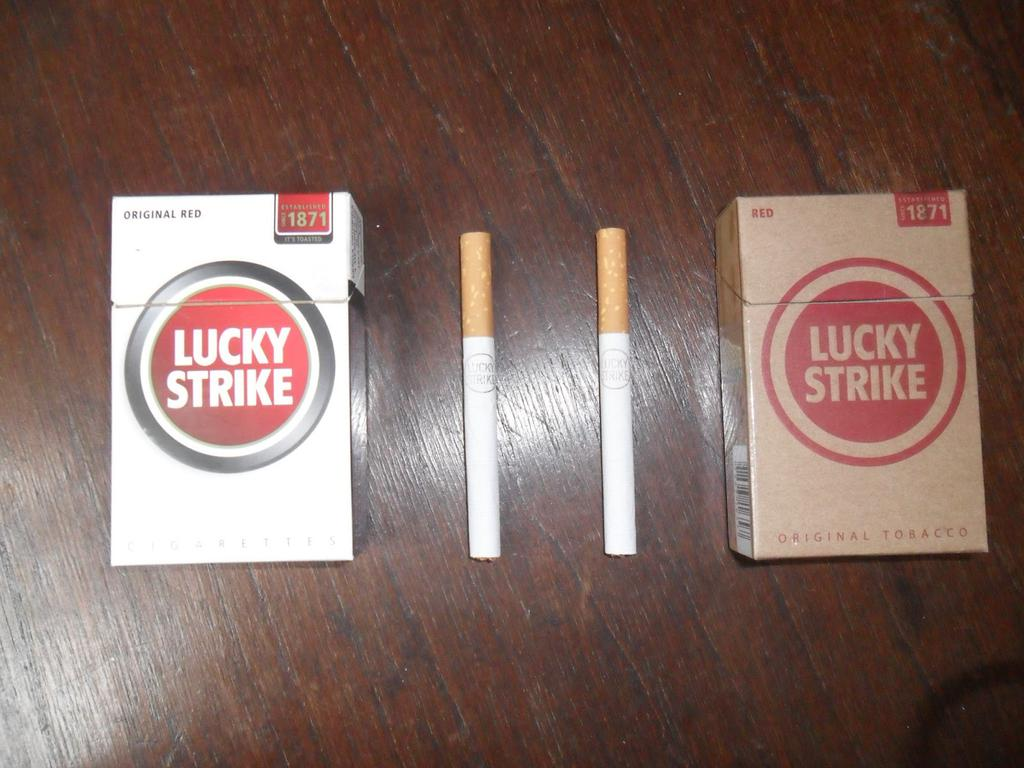lucky_strike_red: (110, 199, 350, 564), (748, 192, 972, 552)
